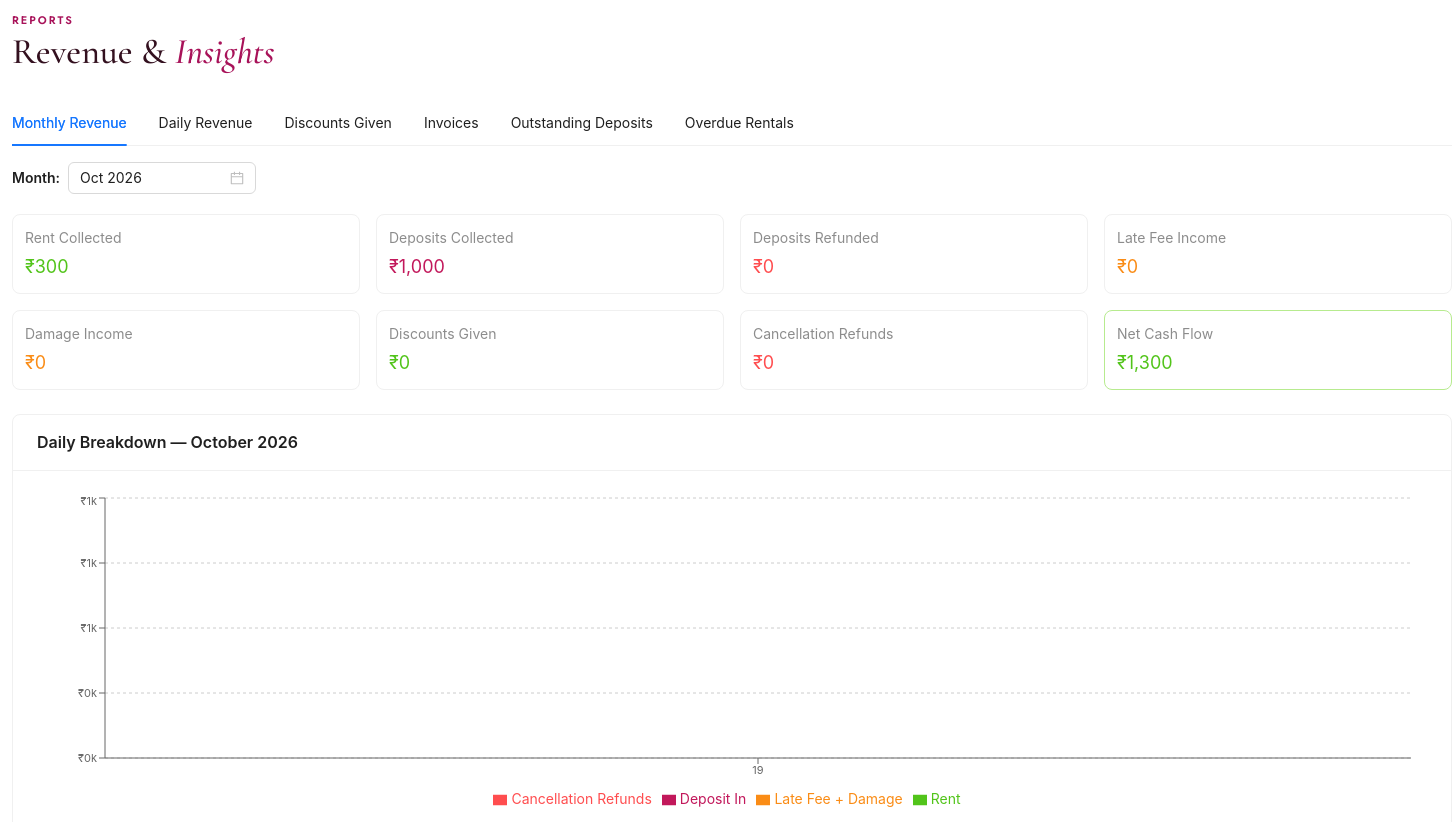
it: ReportsPage daily revenue cancellations (#166) › hides the cancellations section on a day without cancellations
The width and height of the screenshot is (1452, 822).
Click the tab "Daily Revenue". click: (206,123)
box: [159, 112, 252, 134]
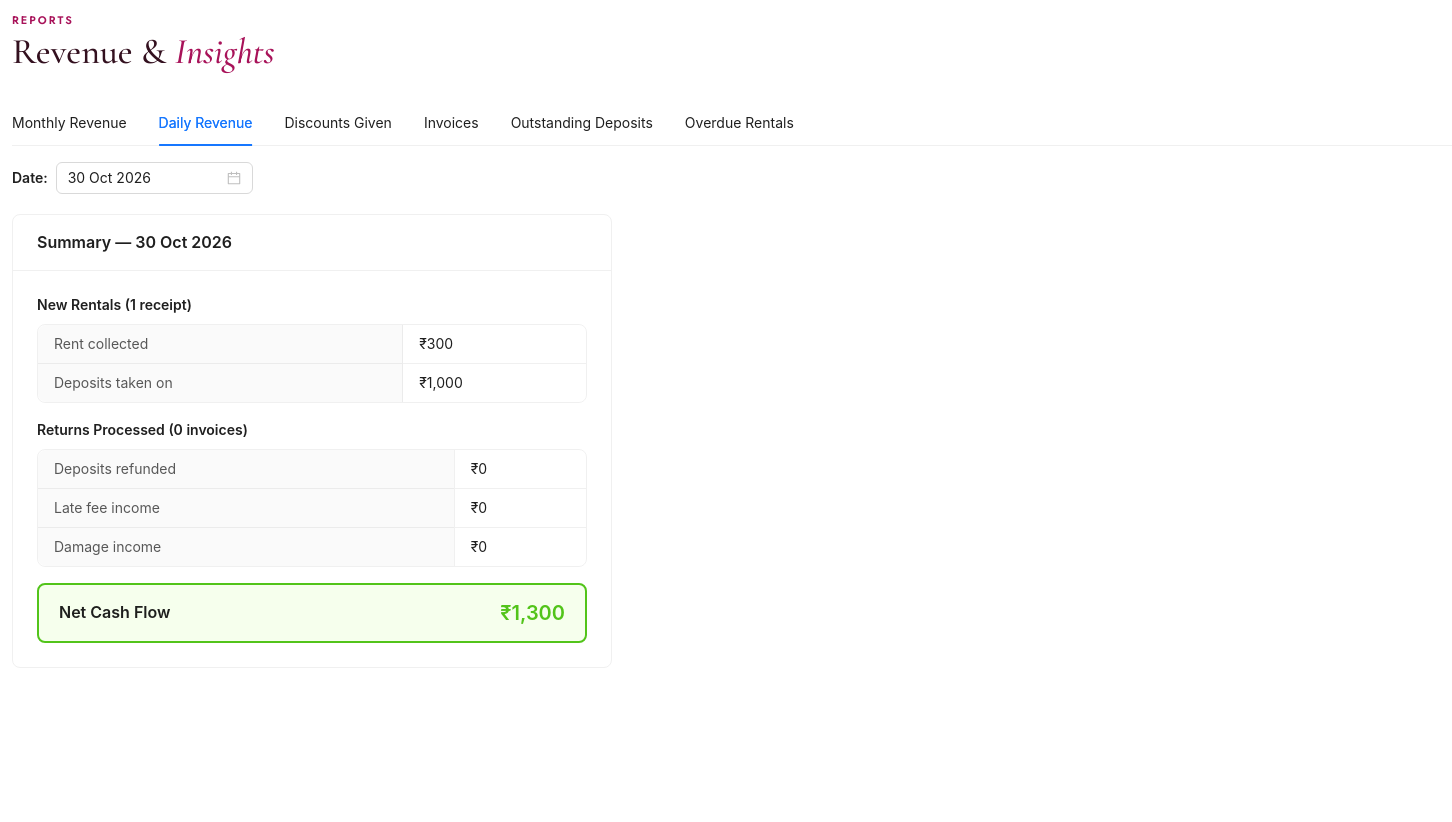
Now the text "Summary — 30 Oct 2026" is shown, box [37, 232, 232, 252]
